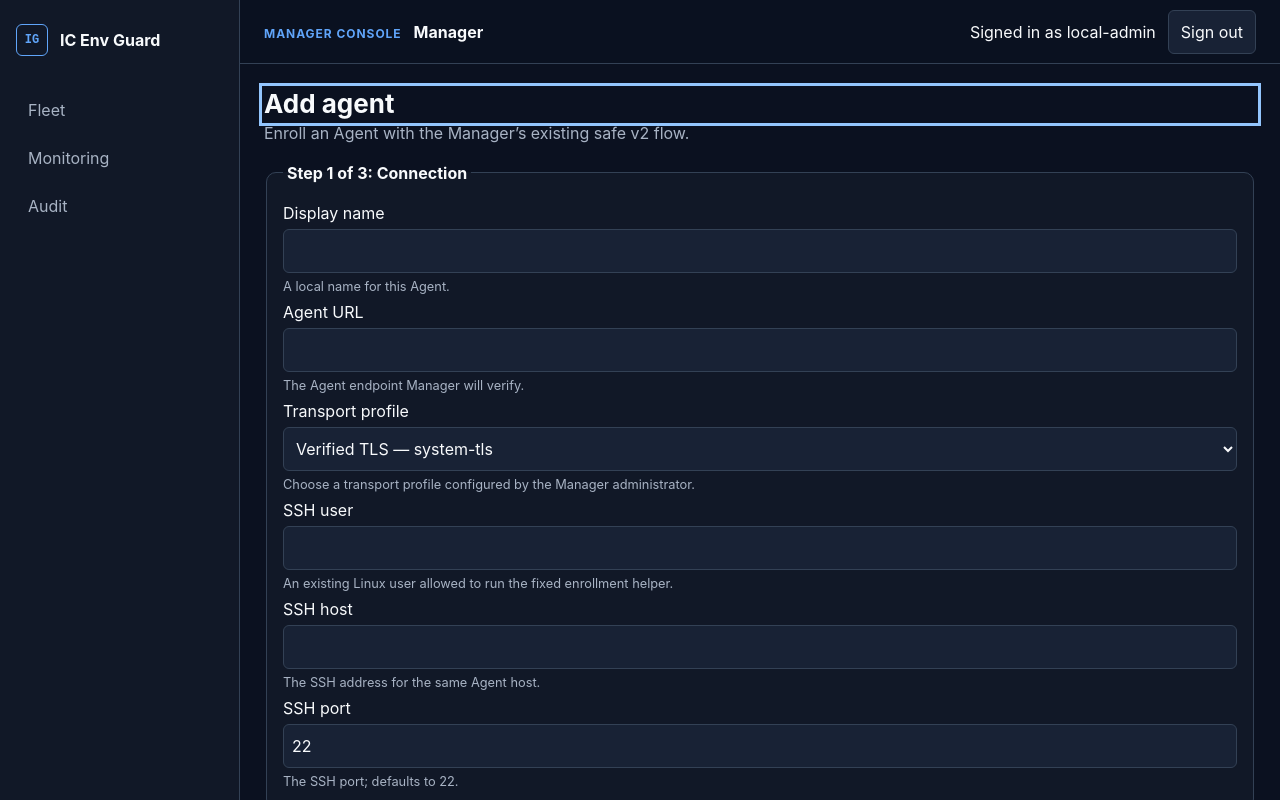
Test: Add agent flow › defaults an IPv6 URL to an unbracketed SSH host
Type "https://[2001:db8::1]:8765" into the field labelled "Agent URL".
click(760, 350); type("https://[2001:db8::1]:8765")  # box left=283, top=328, right=1237, bottom=372
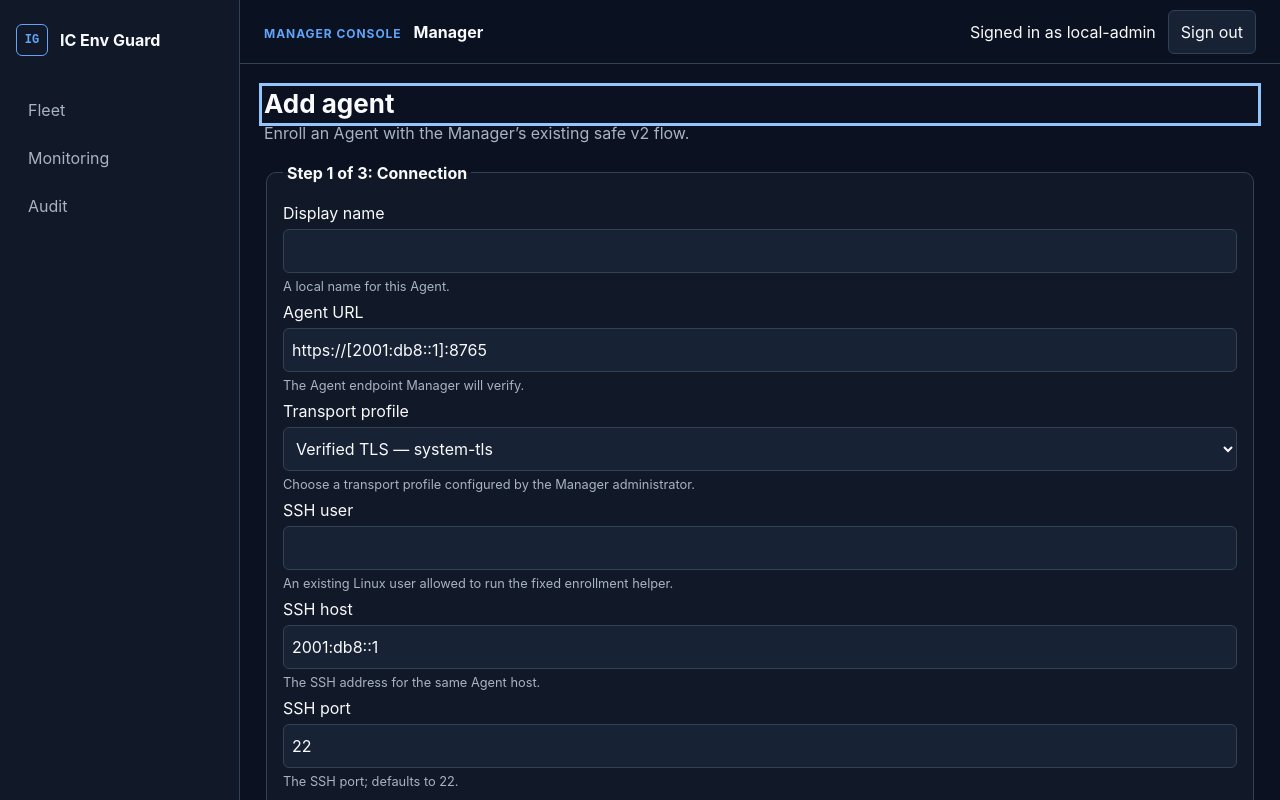
Expected: the field labelled "SSH host" holds "2001:db8::1", left=283, top=625, right=1237, bottom=669
